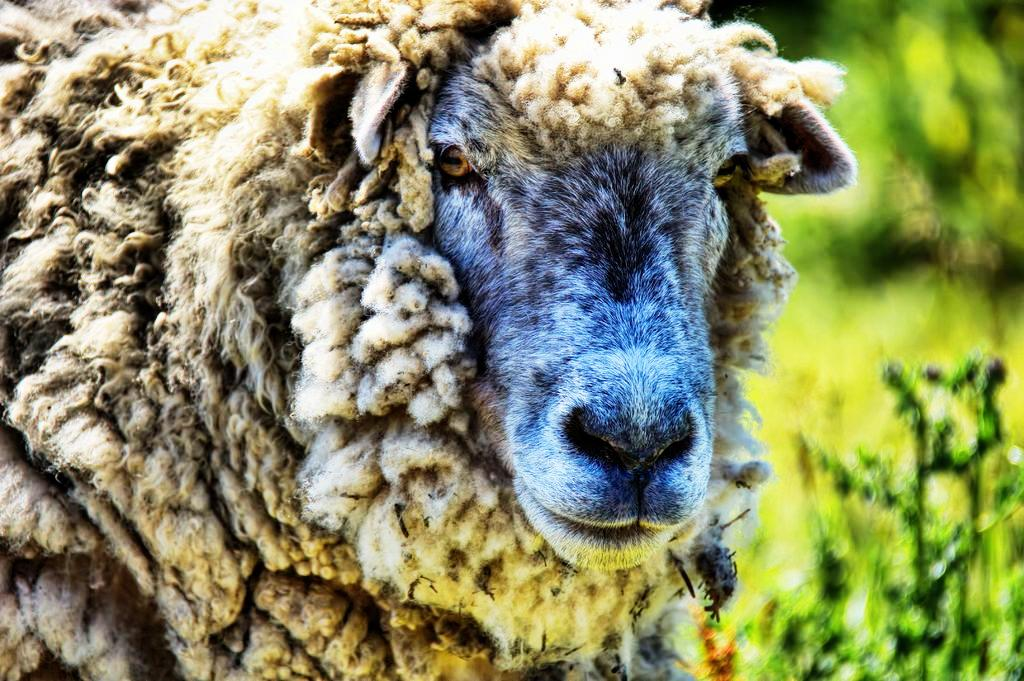Sheep: (0, 0, 855, 680)
